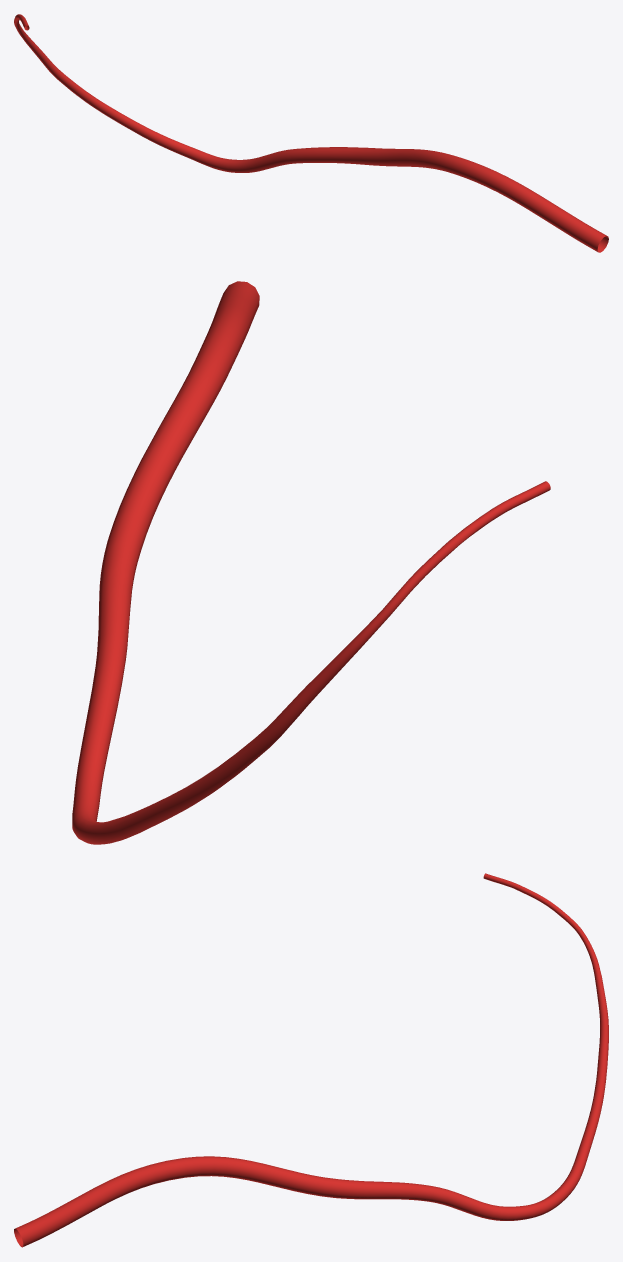
Rendered from circulatorio-medial-circumflex-femoral-veins-r.glb.
The picture shows the model from 3 angles, top to bottom: view 1: azimuth 30°, elevation 25°; view 2: azimuth 150°, elevation 25°; view 3: azimuth 270°, elevation 25°; orthographic projection. The views are drawn at different scales.
Parts seen in each view (by area): view 1: Medial circumflex femoral veins.r; view 2: Medial circumflex femoral veins.r; view 3: Medial circumflex femoral veins.r.
Boxes of the visible parts, x1,y1,x2,y2 form: Medial circumflex femoral veins.r: [14, 14, 608, 252]; Medial circumflex femoral veins.r: [72, 281, 550, 844]; Medial circumflex femoral veins.r: [14, 873, 608, 1247].
Bounding box in the file's own units: 0.0593 × 0.0317 × 0.0741.
